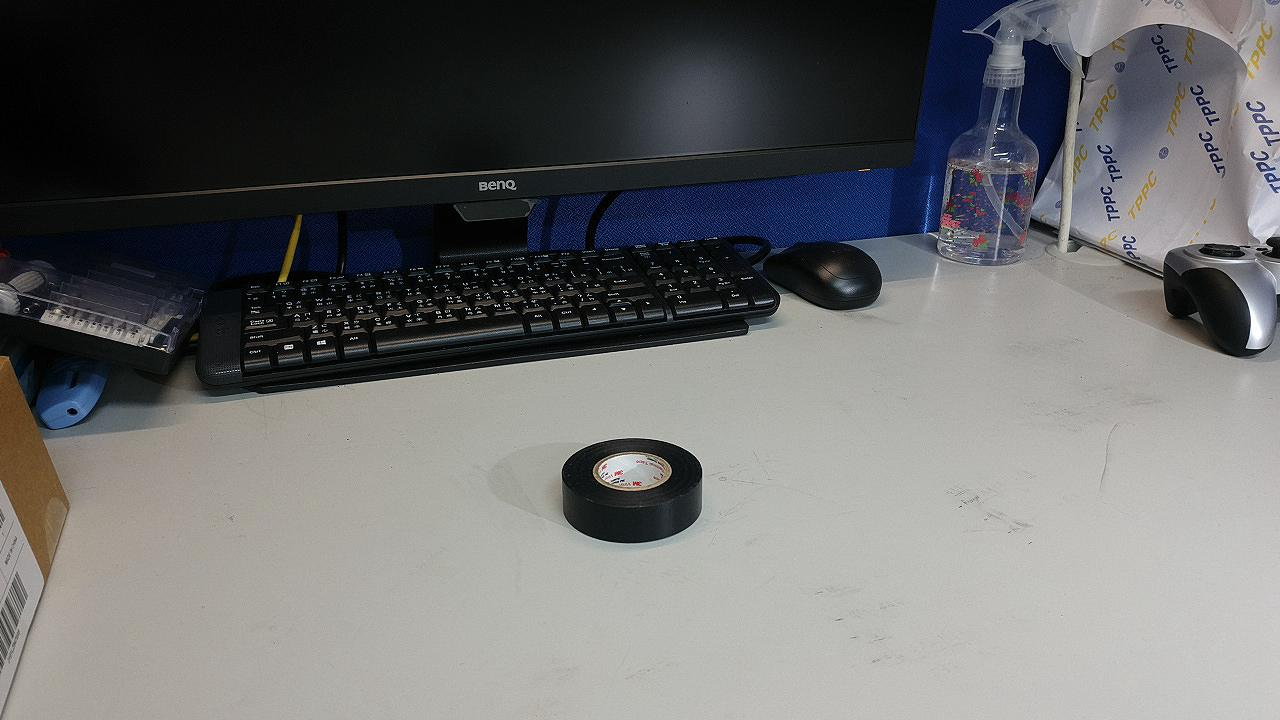columnar: (434, 231, 603, 452)
grip: (593, 267, 660, 393)
